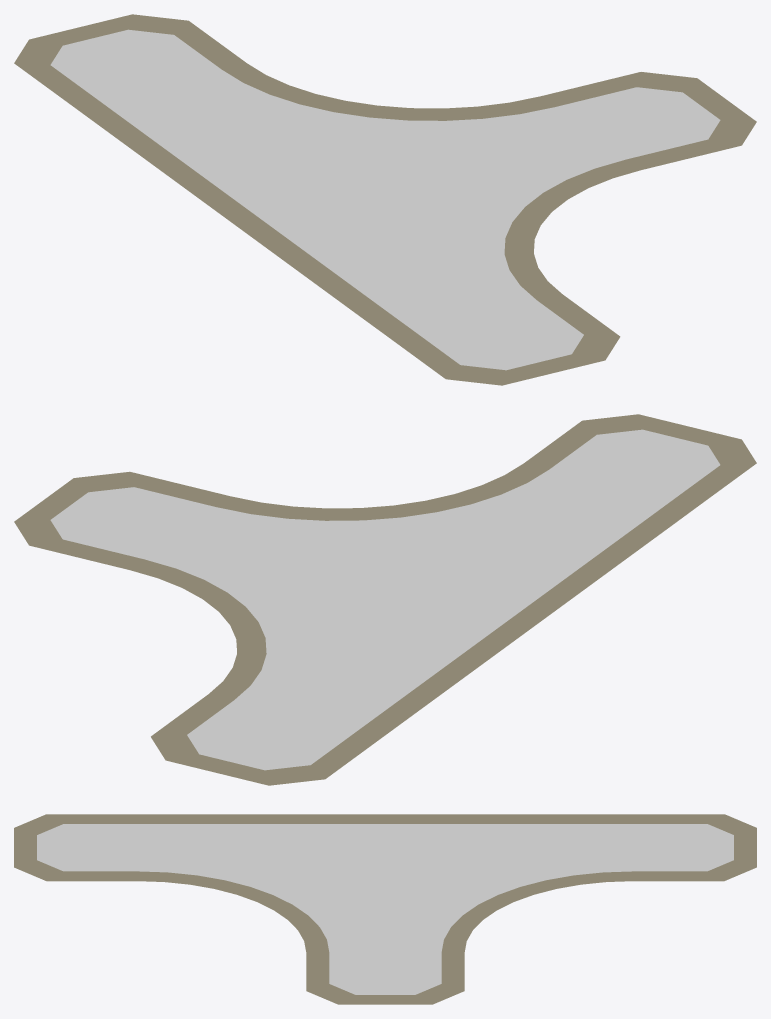
The model's file is Ground6.fbx.
The picture shows the model from 3 angles, top to bottom: view 1: azimuth 30°, elevation 25°; view 2: azimuth 150°, elevation 25°; view 3: azimuth 270°, elevation 25°; orthographic projection. The views are drawn at different scales.
Parts seen in each view (by area): view 1: Ground6.fbx; view 2: Ground6.fbx; view 3: Ground6.fbx.
Boxes of the visible parts, x1=… form: Ground6.fbx: x1=14, y1=14, x2=756, y2=385; Ground6.fbx: x1=14, y1=414, x2=756, y2=785; Ground6.fbx: x1=14, y1=814, x2=756, y2=1004.
Bounding box in the file's own units: 6.91 × 0 × 11.39.
